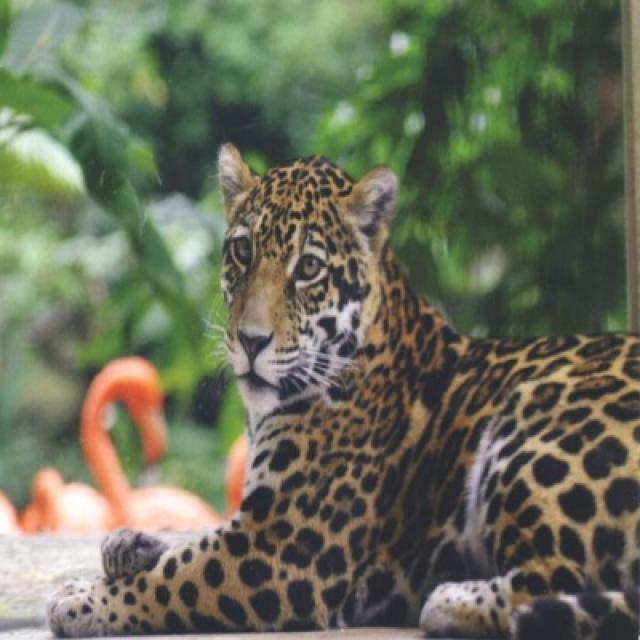Jaguar: (46, 142, 638, 638)
